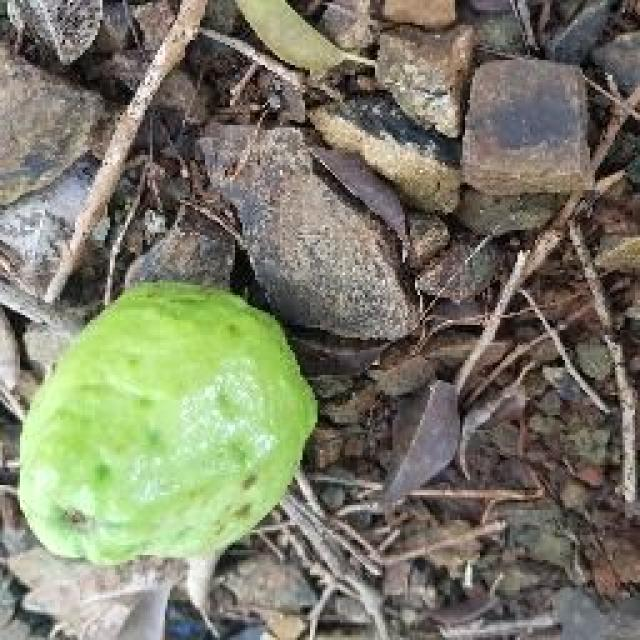Good_Guava: (15, 282, 318, 610)
